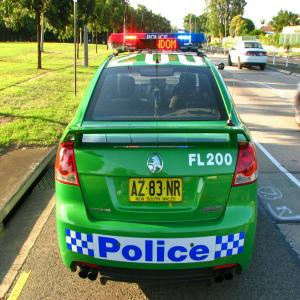Vehicle-registration-plate: (129, 178, 184, 204)
